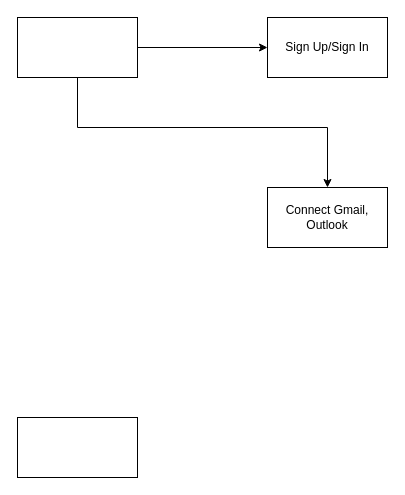
Some shapes in this 405 by 495 pixel diagram are drawn without their labels. The shapes that lost their labels are listed below. From the top down, each one's centre as x and y in pixels, then its label:
pixel 77 47: FE - Next, Tailwind
pixel 77 447: BE - Next
